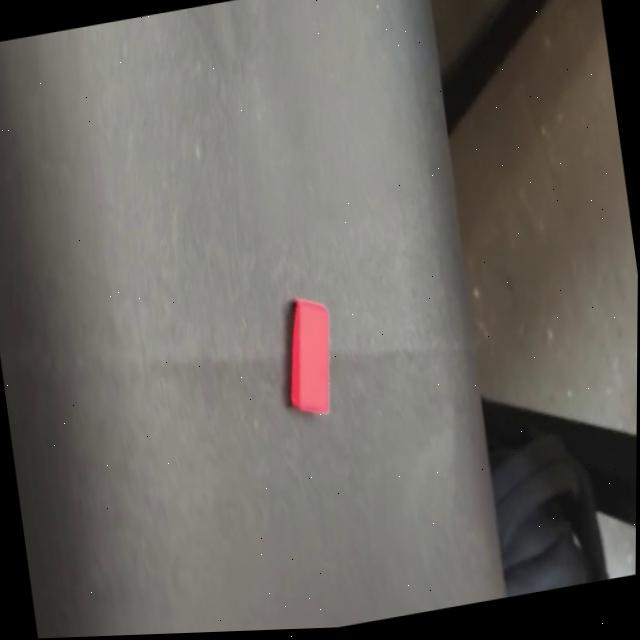red block: (276, 293, 343, 424)
